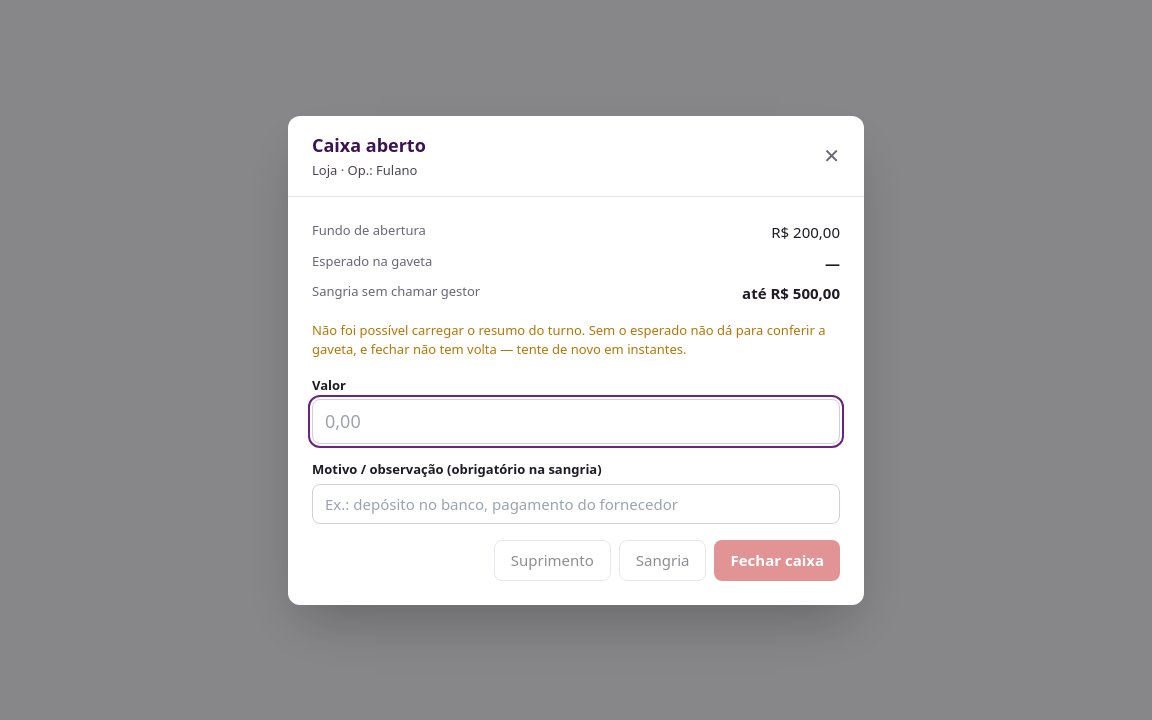
Test case: acima do teto, a liberação é pedida NO MESMO modal › cancelar o diálogo não sangra nada
Expected: the text "—" is shown, [825, 252, 840, 272]
Type "800,00" into the field labelled "Valor" at (576, 422), box [312, 399, 840, 444]
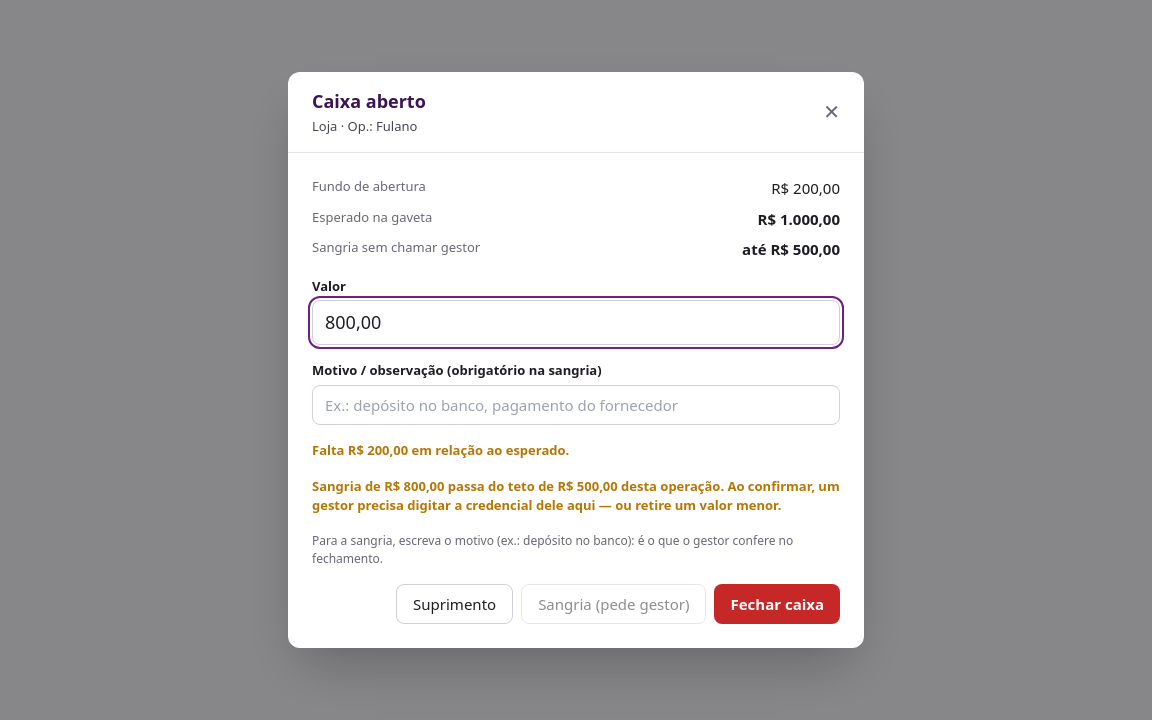
Type "depósito no banco" into the field named "Motivo (obrigatório na sangria)" at (576, 405), box [312, 385, 840, 425]
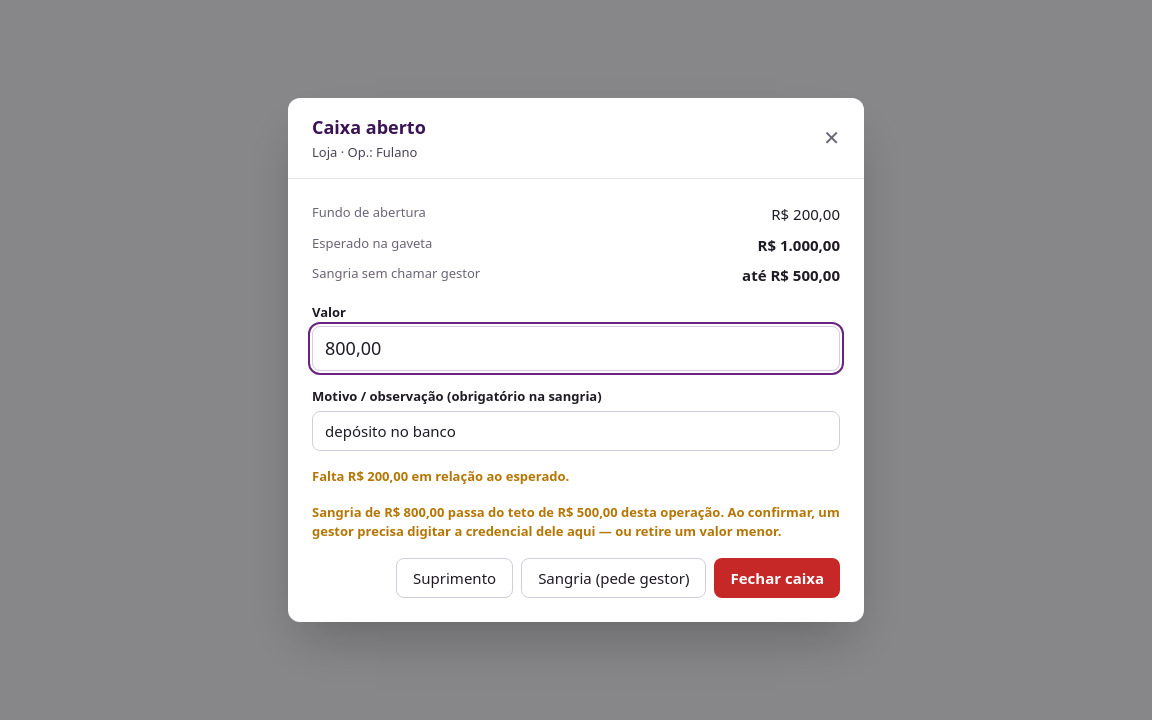
Click the button "Sangria (pede gestor)" at (614, 578), box [521, 558, 706, 598]
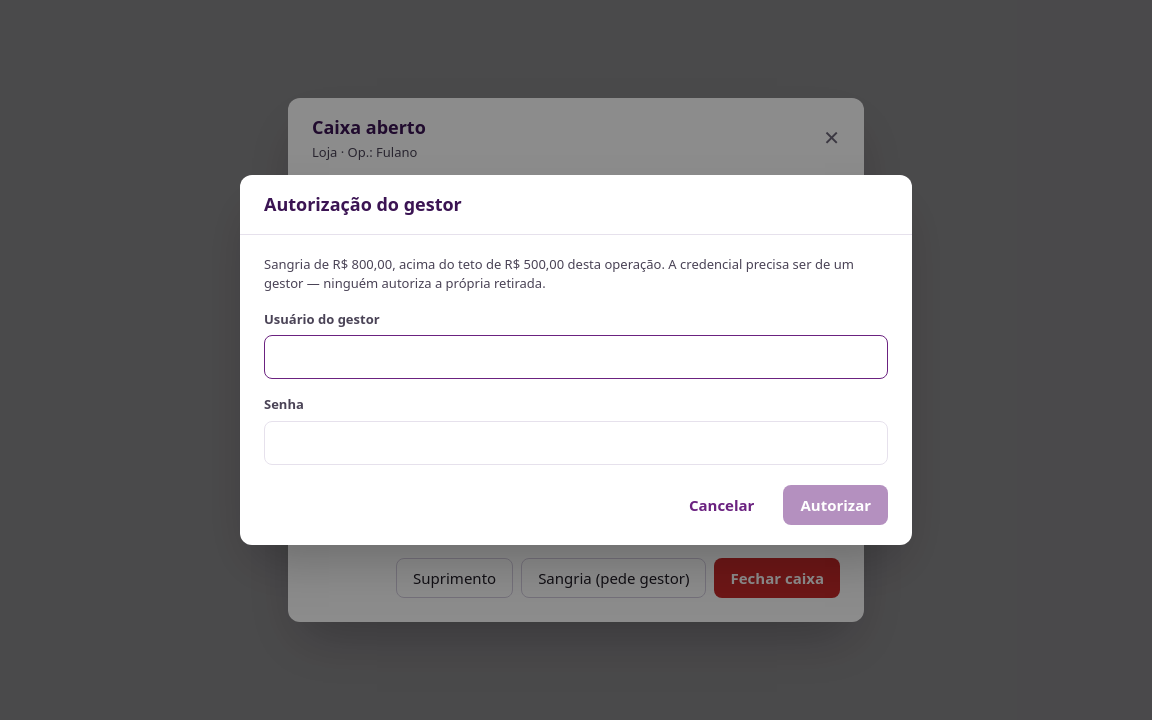
Expected: the dialog labelled "Autorização do gestor" is shown
Click the button "Cancelar" at (722, 505), box [672, 485, 771, 525]
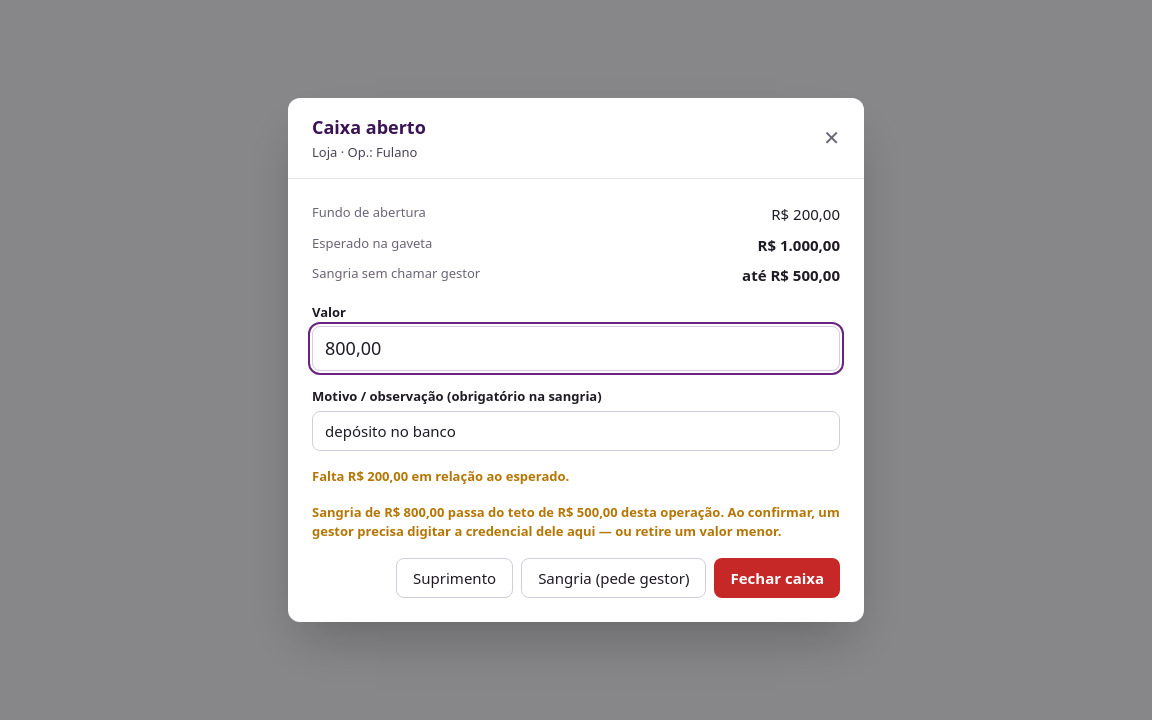
Expected: the heading labelled "Autorização do gestor" is gone
